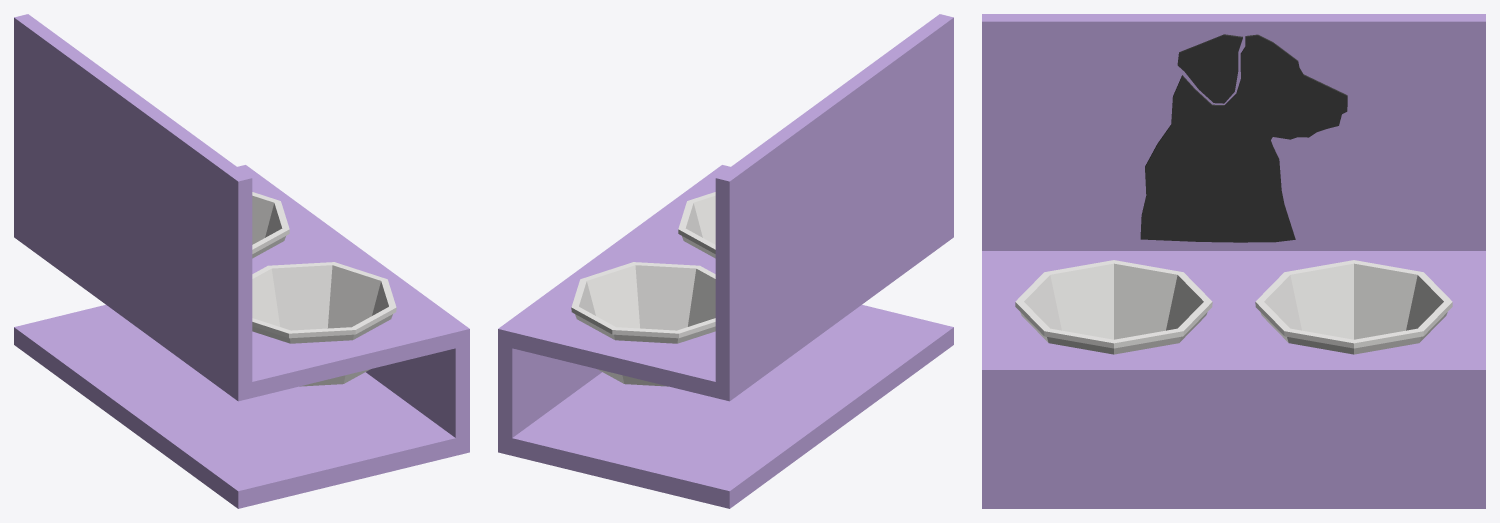
Rendered from food_stand_4.fbx.
3 views of the same model, side by side, from view 1: azimuth 30°, elevation 25°; view 2: azimuth 150°, elevation 25°; view 3: azimuth 270°, elevation 25° (orthographic). The views are drawn at different scales.
Visible parts, largest first — view 1: food_stand_4; view 2: food_stand_4; view 3: food_stand_4.
Boxes of the visible parts, <box> form: food_stand_4: <box>14,14,469,508</box>; food_stand_4: <box>498,14,953,508</box>; food_stand_4: <box>982,14,1485,508</box>.
Bounding box in the file's own units: 34.03 × 57.02 × 45.94.
